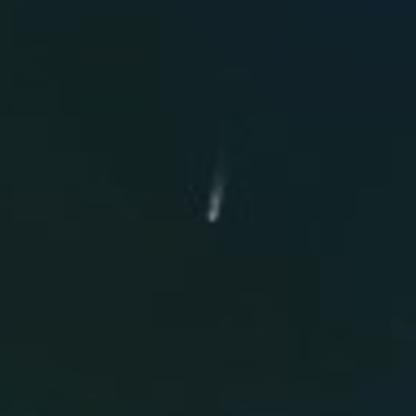ship: (199, 206, 222, 224)
